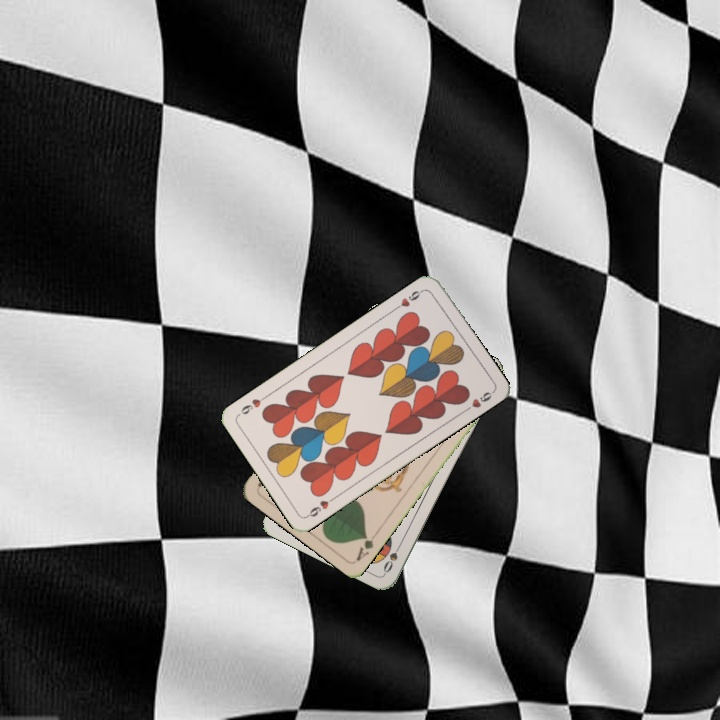GA: (352, 528, 381, 564)
H9: (303, 492, 339, 520), (391, 285, 427, 313)
SO: (379, 538, 405, 576)
